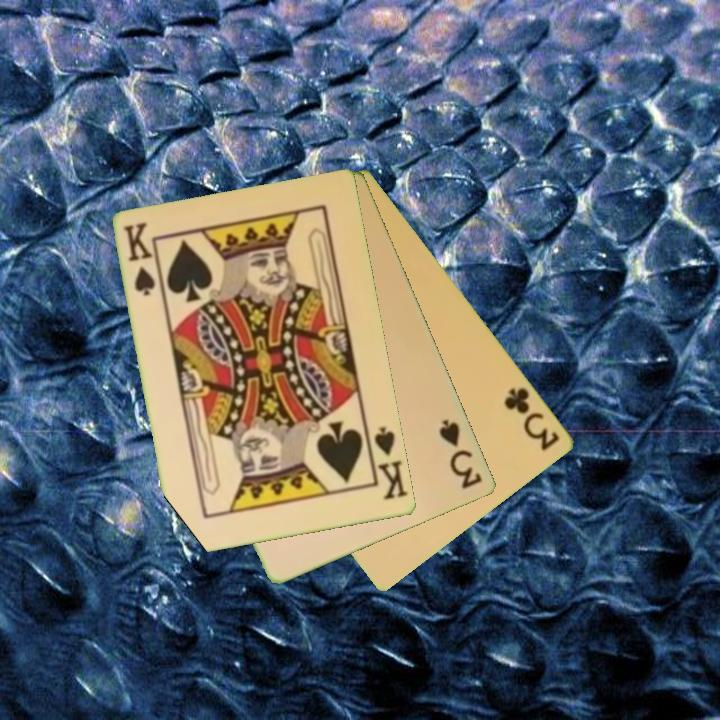3c: (501, 383, 563, 454)
3s: (436, 415, 486, 492)
Ks: (371, 423, 411, 503), (120, 219, 159, 299)
